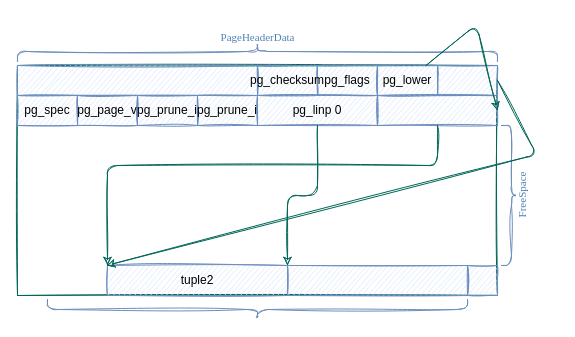
The diagram is 575 pixels wide and 337 high, and some of its shapes have lost their labels. Here are the shapes that lost their labels. From the top down, the centre of each, then its label:
At point (137, 80): "pd_lsn".
At point (467, 80): "pg_upper".
At point (437, 110): "pg_linp 1".
At point (377, 280): "tuple1".
At point (482, 280): "spec".
